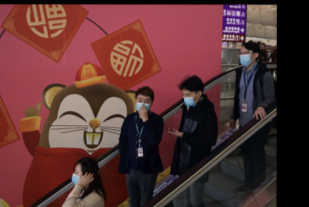with_mask: (237, 48, 255, 67), (133, 95, 151, 114), (180, 90, 198, 107), (69, 167, 83, 187)
